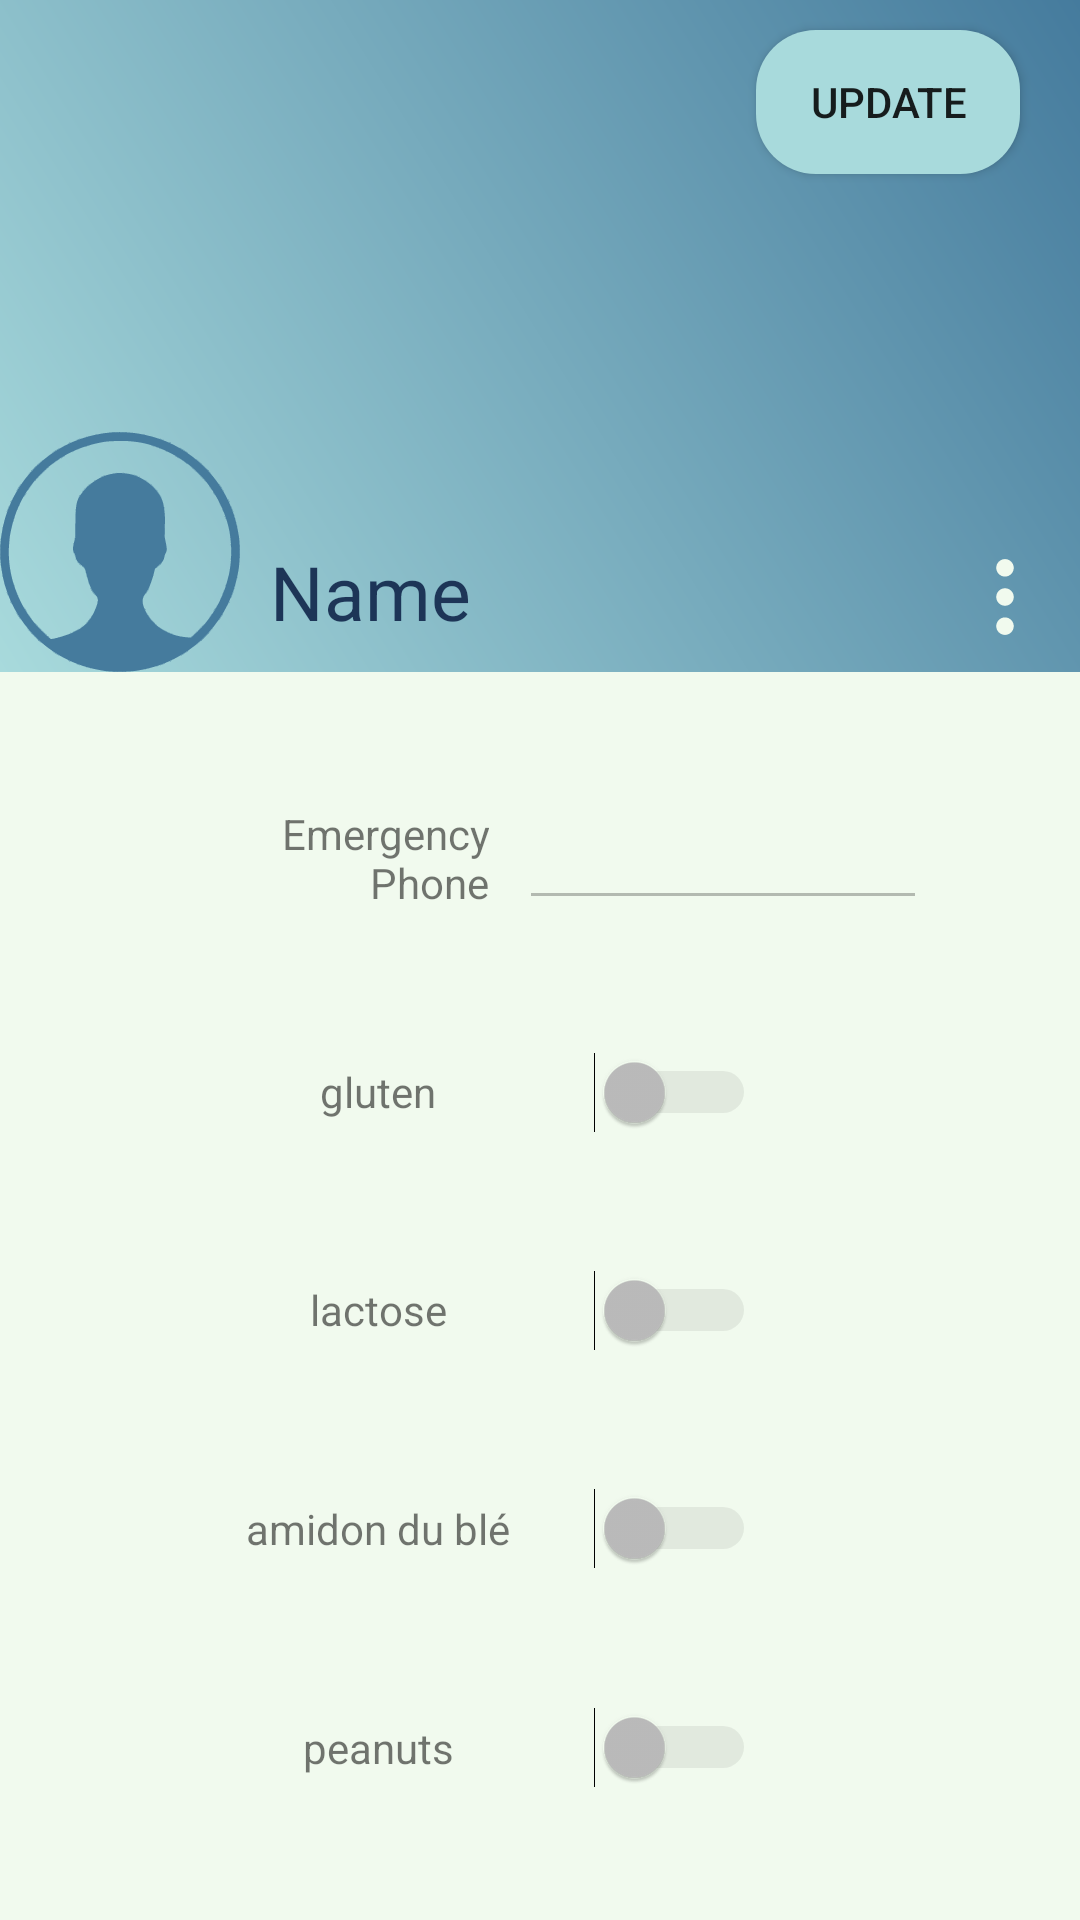

Icons on this 1080 x 1920 Android screen, each with the point to tap as (x,y):
option: (1005,597)
profile: (120,552)
